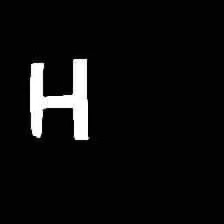LTR_H: (19, 55, 101, 149)
